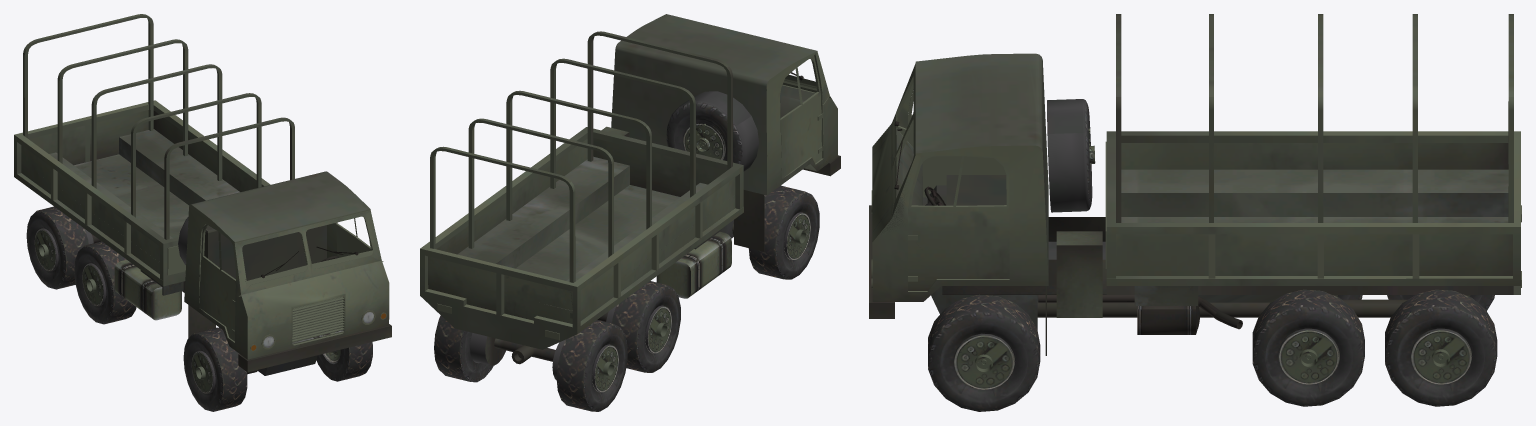
Rendered from tam_150.glb.
3 views of the same model, side by side, from view 1: azimuth 30°, elevation 25°; view 2: azimuth 150°, elevation 25°; view 3: azimuth 270°, elevation 25° (orthographic). The views are drawn at different scales.
Parts seen in each view (by area): view 1: TAM150_body, Wheel_R_4, Wheel_R_6, Wheel_R_5, Wheel_L_1; view 2: TAM150_body, Wheel_R_6, Wheel_R_4, Wheel_R_5, Wheel_L_3; view 3: TAM150_body, Wheel_L_2, Wheel_L_3, Wheel_L_1.
Boxes of the visible parts, box(x1,y1,x2,y2) form: TAM150_body: box(14, 14, 391, 375); Wheel_R_4: box(183, 327, 257, 411); Wheel_R_6: box(26, 206, 101, 289); Wheel_R_5: box(74, 241, 136, 324); Wheel_L_1: box(316, 342, 372, 381); TAM150_body: box(420, 14, 840, 364); Wheel_R_6: box(532, 320, 627, 411); Wheel_R_4: box(732, 185, 819, 279); Wheel_R_5: box(597, 281, 680, 372); Wheel_L_3: box(434, 315, 522, 382); TAM150_body: box(869, 14, 1521, 362); Wheel_L_2: box(1252, 289, 1364, 406); Wheel_L_3: box(1385, 289, 1497, 406); Wheel_L_1: box(928, 294, 1040, 411).
Bounding box in the file's own units: 2.01 × 2.71 × 5.15.
2 materials, 2 textured.
